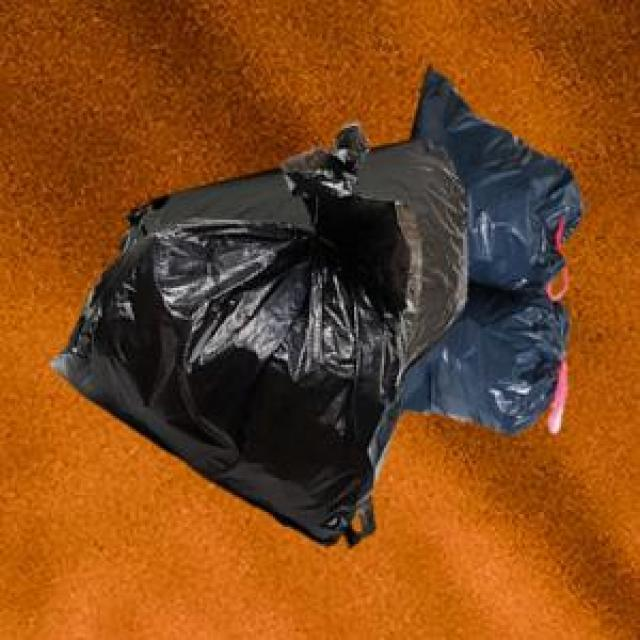Trashbag: (46, 117, 420, 553), (408, 62, 587, 292), (404, 279, 576, 437)
